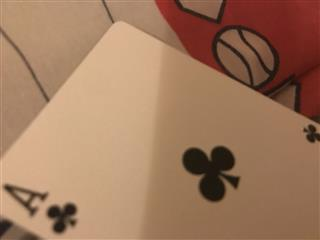AceOfClubs: (1, 20, 320, 240)
